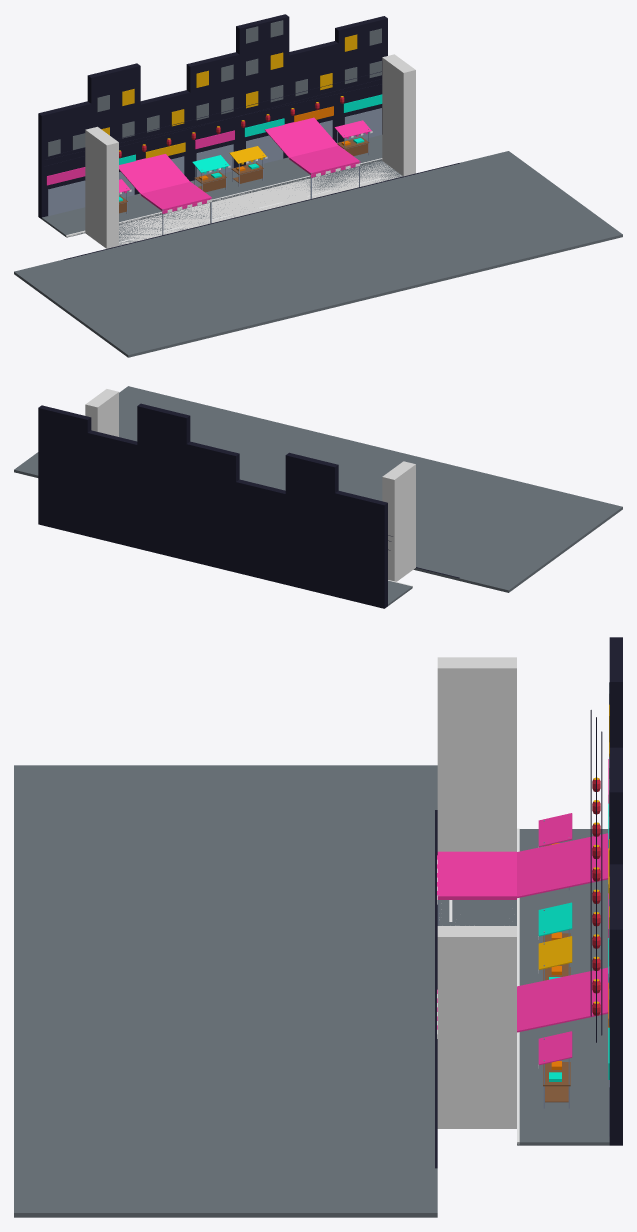
The model's file is stage_chodem_blockout.fbx.
3 views of the same model, one above another, from view 1: azimuth 30°, elevation 25°; view 2: azimuth 150°, elevation 25°; view 3: azimuth 270°, elevation 25° (orthographic). The views are drawn at different scales.
Parts seen in each view (by area): view 1: stage_chodem_duong_truoc, stage_chodem_nhapho_05, stage_chodem_san_col, stage_chodem_nhapho_04, stage_chodem_nhapho_01, stage_chodem_nhapho_07, stage_chodem_viahe, stage_chodem_nhapho_02, stage_chodem_nhapho_06, stage_chodem_bien_l_col, stage_chodem_bien_r_col, stage_chodem_nhapho_03 (+8 smaller); view 2: stage_chodem_duong_truoc, stage_chodem_nhapho_05, stage_chodem_nhapho_02, stage_chodem_nhapho_04, stage_chodem_nhapho_07, stage_chodem_nhapho_01, stage_chodem_nhapho_06, stage_chodem_nhapho_03, stage_chodem_bien_l_col, stage_chodem_bien_r_col, stage_chodem_viahe; view 3: stage_chodem_duong_truoc, stage_chodem_bien_r_col, stage_chodem_viahe, stage_chodem_bien_l_col, stage_chodem_maihien_01, stage_chodem_maihien_02, stage_chodem_nhapho_07, stage_chodem_daydien_denlong, kiosk_inst_04, stage_chodem_san_02, stage_chodem_nhapho_05, stage_chodem_nhapho_02 (+3 smaller).
Boxes of the visible parts, left/top/right/bottom form: stage_chodem_duong_truoc: left=14, top=151, right=622, bottom=357; stage_chodem_nhapho_05: left=236, top=14, right=289, bottom=166; stage_chodem_san_col: left=119, top=161, right=402, bottom=245; stage_chodem_nhapho_04: left=186, top=52, right=239, bottom=181; stage_chodem_nhapho_01: left=38, top=101, right=91, bottom=218; stage_chodem_nhapho_07: left=335, top=16, right=387, bottom=142; stage_chodem_viahe: left=41, top=135, right=382, bottom=237; stage_chodem_nhapho_02: left=87, top=63, right=140, bottom=197; stage_chodem_nhapho_06: left=289, top=41, right=338, bottom=142; stage_chodem_bien_l_col: left=85, top=126, right=118, bottom=248; stage_chodem_bien_r_col: left=382, top=54, right=415, bottom=176; stage_chodem_nhapho_03: left=140, top=90, right=190, bottom=180; stage_chodem_duong_truoc: left=14, top=386, right=622, bottom=592; stage_chodem_nhapho_05: left=137, top=403, right=190, bottom=560; stage_chodem_nhapho_02: left=285, top=452, right=338, bottom=596; stage_chodem_nhapho_04: left=186, top=441, right=239, bottom=572; stage_chodem_nhapho_07: left=38, top=405, right=91, bottom=536; stage_chodem_nhapho_01: left=335, top=490, right=387, bottom=608; stage_chodem_nhapho_06: left=87, top=430, right=137, bottom=548; stage_chodem_nhapho_03: left=236, top=479, right=285, bottom=584; stage_chodem_bien_l_col: left=382, top=461, right=415, bottom=581; stage_chodem_bien_r_col: left=85, top=389, right=118, bottom=436; stage_chodem_viahe: left=388, top=580, right=412, bottom=605; stage_chodem_duong_truoc: left=14, top=765, right=437, bottom=1217; stage_chodem_bien_r_col: left=437, top=926, right=516, bottom=1128; stage_chodem_viahe: left=517, top=828, right=609, bottom=1145; stage_chodem_bien_l_col: left=437, top=657, right=516, bottom=851; stage_chodem_maihien_01: left=437, top=833, right=608, bottom=925; stage_chodem_maihien_02: left=437, top=967, right=608, bottom=1038; stage_chodem_nhapho_07: left=608, top=885, right=622, bottom=1145; stage_chodem_daydien_denlong: left=590, top=710, right=602, bottom=1042; kiosk_inst_04: left=538, top=1031, right=572, bottom=1108; stage_chodem_san_02: left=439, top=900, right=516, bottom=925; stage_chodem_nhapho_05: left=608, top=747, right=622, bottom=982; stage_chodem_nhapho_02: left=608, top=637, right=622, bottom=848.
Bounding box in the file's own units: 40 × 11.2 × 23.
